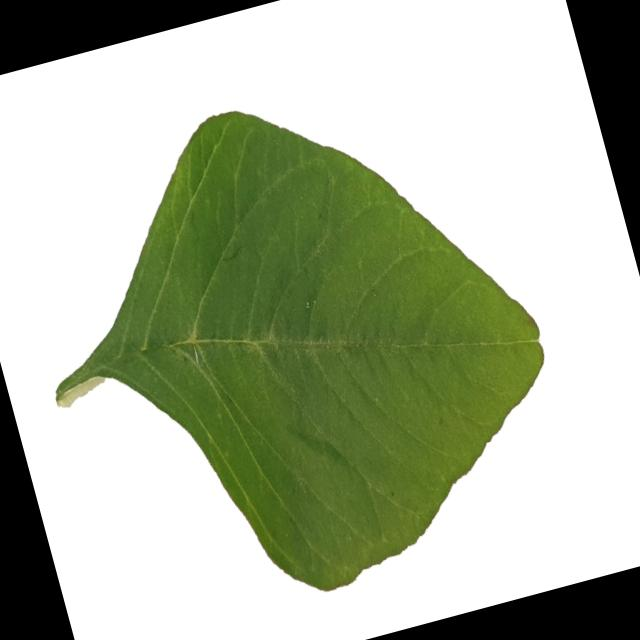Medicinal-Arive Dantu: (0, 40, 593, 640)
